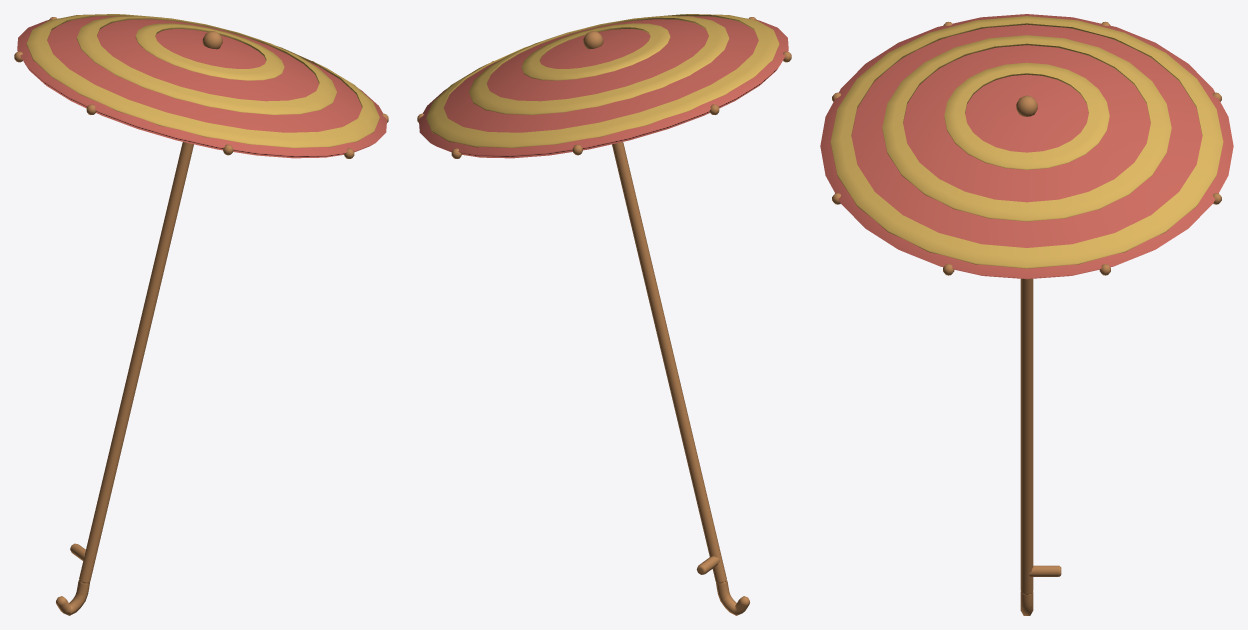
The model's file is paper_parasol.glb.
The picture shows the model from 3 angles, left to right: view 1: azimuth 30°, elevation 25°; view 2: azimuth 150°, elevation 25°; view 3: azimuth 270°, elevation 25°; orthographic projection. The views are drawn at different scales.
Parts seen in each view (by area): view 1: paper_parasol_ArmR; view 2: paper_parasol_ArmR; view 3: paper_parasol_ArmR.
Boxes of the visible parts, <box> form: paper_parasol_ArmR: <box>14,14,388,615</box>; paper_parasol_ArmR: <box>417,14,791,615</box>; paper_parasol_ArmR: <box>820,14,1233,615</box>.
Size of the model in its own units: 0.8703 by 1.43 by 0.9.
